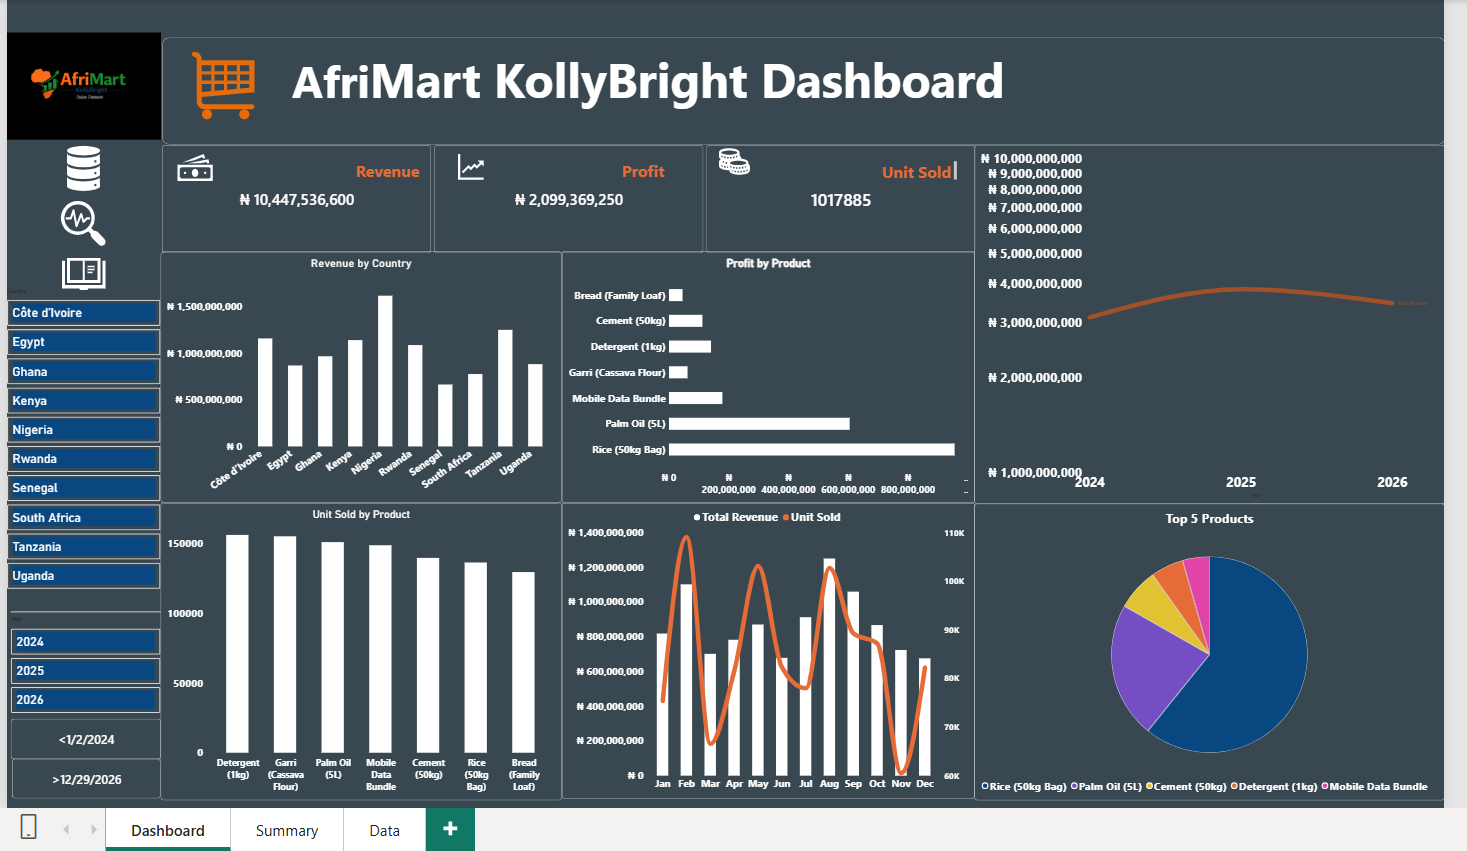

The dashboard page shown, as its layout file describes it:
{"tool":"powerbi","page":{"name":"Dashboard","canvas":[3840,2160],"ordinal":0},"visuals":[{"type":"cardVisual","fields":{"Data":["Data.Total Revenue","Data.Total Profit","Data.Unit Sold"]},"box":[412.6,387.3,2173.3,289.5],"z":0},{"type":"columnChart","title":" Revenue by Country","fields":{"Category":["Country.Country"],"Y":["Data.Total Revenue"]},"box":[411.6,669.8,1070.9,673.3],"z":1000},{"type":"barChart","title":"Profit by Product","fields":{"Category":["Product.Product"],"Y":["Data.Total Profit"]},"box":[1482.6,669.8,1102.3,673.3],"z":2000},{"type":"columnChart","fields":{"Y":["Data.Unit Sold"],"Category":["Product.Product"]},"box":[411.6,1343,1070.9,795.4],"z":3000},{"type":"lineStackedColumnComboChart","fields":{"Category":["Date.MonthName"],"Y":["Data.Total Revenue"],"Y2":["Data.Unit Sold"]},"box":[1482.6,1343,1102.3,791.9],"z":4000},{"type":"pieChart","fields":{"Category":["Product.Product"],"Y":["Data.Total Revenue"]},"box":[2584.9,1346.5,1255.8,791.9],"z":5000},{"type":"lineChart","fields":{"Category":["Date.Year"],"Y":["Data.Total Revenue"]},"box":[2584.9,387.2,1255.8,959.3],"z":6000},{"type":"image","box":[0,100.2,410.8,273.8],"z":7000},{"type":"image","box":[460.9,120.2,246.1,217.2],"z":8000},{"type":"image","box":[1158.2,398.1,160.3,96.8],"z":10000},{"type":"image","box":[412.6,398.1,177,102.9],"z":11000},{"type":"image","box":[1876.8,384,129.1,94.2],"z":12000},{"type":"textbox","box":[760.1,123.1,3033,249.7],"z":13000},{"type":"textbox","box":[1643.1,427.5,200.3,62.7],"z":14000},{"type":"textbox","box":[2337.7,430.8,200.3,53.1],"z":15000},{"type":"advancedSlicerVisual","fields":{"Values":["Date.Year"]},"box":[10,1646.4,400.7,270.5],"z":16000},{"type":"advancedSlicerVisual","fields":{"Values":["Country.Country"]},"box":[0,768.1,410.8,854.9],"z":17000},{"type":"cardVisual","fields":{"Data":["Data.DateMax"]},"box":[13.4,2027.1,397.4,106.9],"z":18000},{"type":"cardVisual","fields":{"Data":["Data.DateMin"]},"box":[10.5,1918.6,401.2,108.1],"z":19000},{"type":"shape","box":[412.6,101.3,3429.1,286],"z":20000},{"type":"textbox","box":[930.2,427.1,200.3,62.7],"z":21000},{"type":"shape","box":[10,1623,400.7,23.4],"z":22000},{"type":"image","box":[61.5,669.6,289.5,126.7],"z":23000},{"type":"image","box":[61.5,372.8,289.5,152],"z":24000},{"type":"image","box":[61.5,524.8,289.5,144.8],"z":25000}]}

Visuals, with their boxes on the page's 3840x2160 design canvas (x1, y1, x2, y2). These are canvas units, not pixel positions in the 1467x851 screenshot, which may show the page scaled, cropped or inside an application window:
cardVisual - Data.Total Revenue x Data.Total Profit: (413,387,2586,677)
" Revenue by Country" columnChart: (412,670,1482,1343)
"Profit by Product" barChart: (1483,670,2585,1343)
columnChart - Data.Unit Sold x Product.Product: (412,1343,1482,2138)
lineStackedColumnComboChart - Date.MonthName x Data.Total Revenue: (1483,1343,2585,2135)
pieChart - Product.Product x Data.Total Revenue: (2585,1346,3841,2138)
lineChart - Date.Year x Data.Total Revenue: (2585,387,3841,1346)
image: (0,100,411,374)
image: (461,120,707,337)
image: (1158,398,1318,495)
image: (413,398,590,501)
image: (1877,384,2006,478)
textbox: (760,123,3793,373)
textbox: (1643,428,1843,490)
textbox: (2338,431,2538,484)
advancedSlicerVisual - Date.Year: (10,1646,411,1917)
advancedSlicerVisual - Country.Country: (0,768,411,1623)
cardVisual - Data.DateMax: (13,2027,411,2134)
cardVisual - Data.DateMin: (10,1919,412,2027)
shape: (413,101,3842,387)
textbox: (930,427,1130,490)
shape: (10,1623,411,1646)
image: (62,670,351,796)
image: (62,373,351,525)
image: (62,525,351,670)
